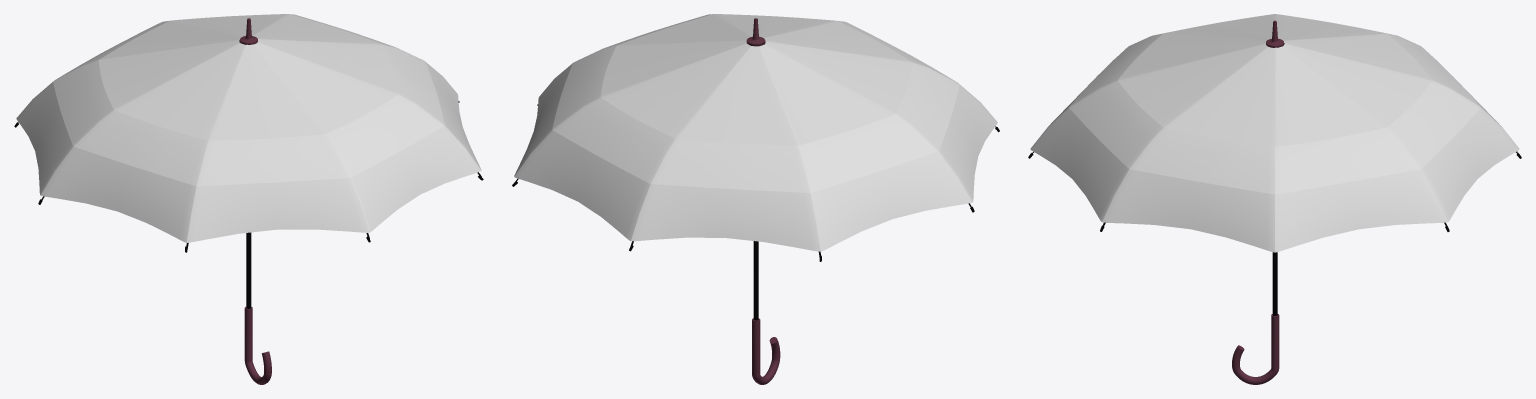
The model's file is umbrella.glb.
The picture shows the model from 3 angles, left to right: view 1: azimuth 30°, elevation 25°; view 2: azimuth 150°, elevation 25°; view 3: azimuth 270°, elevation 25°; orthographic projection. The views are drawn at different scales.
Visible parts, largest first — view 1: top_middle.002, top_middle.001, face4, face3, face5, face2, face6, manico, stecca; view 2: top_middle.002, top_middle.001, face1, face2, face9, face3, face7, manico, stecca; view 3: top_middle.002, top_middle.001, face7, face6, face9, face5, manico, stecca.
Boxes of the visible parts, x1,y1,x2,y2 form: top_middle.002: (98,14,398,140); top_middle.001: (53,14,444,186); face4: (186,177,369,242); face3: (40,146,196,242); face5: (350,126,481,232); face2: (16,82,73,194); face6: (425,61,481,170); manico: (244,307,271,384); stecca: (14,18,483,308); top_middle.002: (600,14,911,145); top_middle.001: (552,14,959,192); face1: (631,184,820,251); face2: (810,151,972,251); face9: (514,130,650,240); face3: (938,84,997,201); face7: (514,63,572,176); manico: (752,318,780,384); stecca: (512,18,999,320); top_middle.002: (1118,14,1432,146); top_middle.001: (1069,33,1480,194); face7: (1275,169,1447,252); face6: (1102,169,1274,252); face9: (1421,108,1519,221); face5: (1030,108,1128,221); manico: (1232,314,1279,384); stecca: (1028,20,1521,315).
Bounding box in the file's own units: 2.61 × 2.12 × 2.61.
